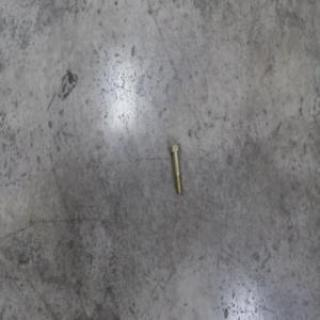Bolttrack_idkeyframe: (168, 142, 182, 195)
